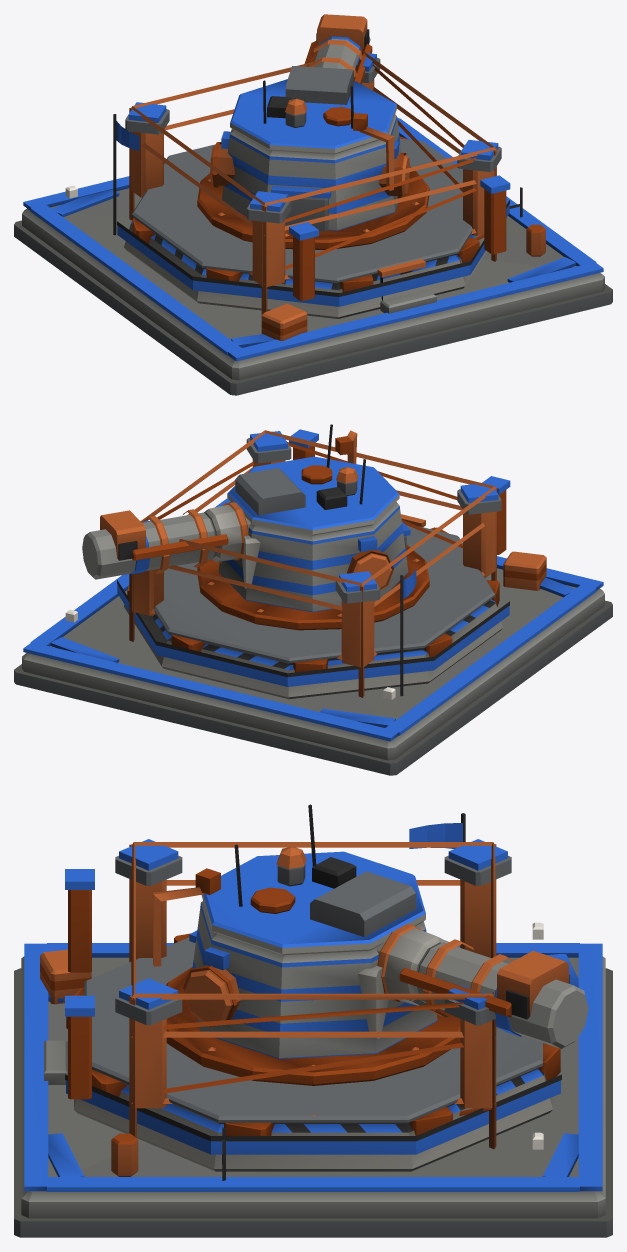
3 renders of one model, top to bottom at view 1: azimuth 30°, elevation 25°; view 2: azimuth 150°, elevation 25°; view 3: azimuth 270°, elevation 25°, orthographic. The views are drawn at different scales.
Parts seen in each view (by area): view 1: body, turret, scaffoldFrame, barrel, deployLegBL, deployLegFL, deployLegBR, deployBraceR, deployBraceL; view 2: body, turret, barrel, scaffoldFrame, deployLegFL, deployLegBL, deployLegFR, deployLegBR, deployBraceL, deployBraceR; view 3: body, turret, barrel, scaffoldFrame, deployLegBR, deployLegFL, deployLegFR, deployLegBL, deployBraceR, deployBraceL, swayFlag.
Part boxes in pixels (x1,y1,x2,y2): body: (14, 113, 612, 395); turret: (210, 79, 409, 231); scaffoldFrame: (129, 50, 496, 314); barrel: (285, 14, 372, 104); deployLegBL: (246, 191, 291, 286); deployLegFL: (125, 102, 169, 197); deployLegBR: (457, 140, 501, 235); deployBraceR: (480, 175, 510, 254); deployBraceL: (289, 222, 318, 300); body: (14, 498, 612, 775); turret: (218, 424, 410, 612); barrel: (82, 468, 305, 579); scaffoldFrame: (129, 430, 496, 697); deployLegFL: (335, 571, 380, 667); deployLegBL: (457, 482, 501, 577); deployLegFR: (132, 520, 163, 615); deployLegBR: (246, 431, 291, 467); deployBraceL: (482, 476, 510, 554); deployBraceR: (289, 429, 318, 459); body: (14, 813, 612, 1237); turret: (153, 804, 437, 1058); barrel: (310, 871, 588, 1048); scaffoldFrame: (129, 842, 496, 1149); deployLegBR: (115, 978, 182, 1108); deployLegFL: (444, 839, 511, 957); deployLegFR: (444, 985, 496, 1108); deployLegBL: (115, 839, 182, 961); deployBraceR: (65, 995, 94, 1099); deployBraceL: (65, 869, 94, 972); swayFlag: (409, 823, 462, 848).
Bounding box in the file's own units: 4 × 2.01 × 4.
